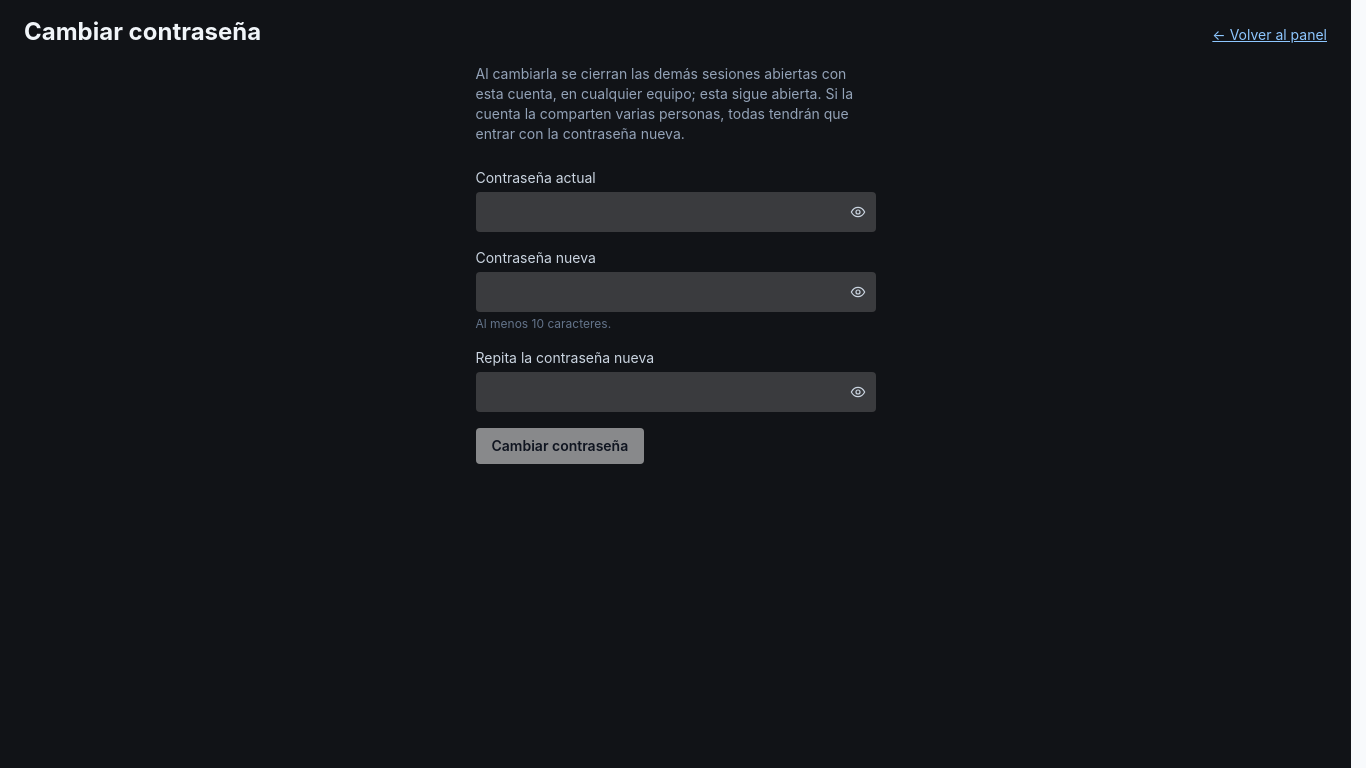
Test: cambiar la propia contraseña (US-61) › si la actual es incorrecta, muestra el motivo del backend
In the password field labelled "Contraseña actual": (676, 212) top-left (476, 192), bottom-right (876, 232), type "no-es-esta-clave"
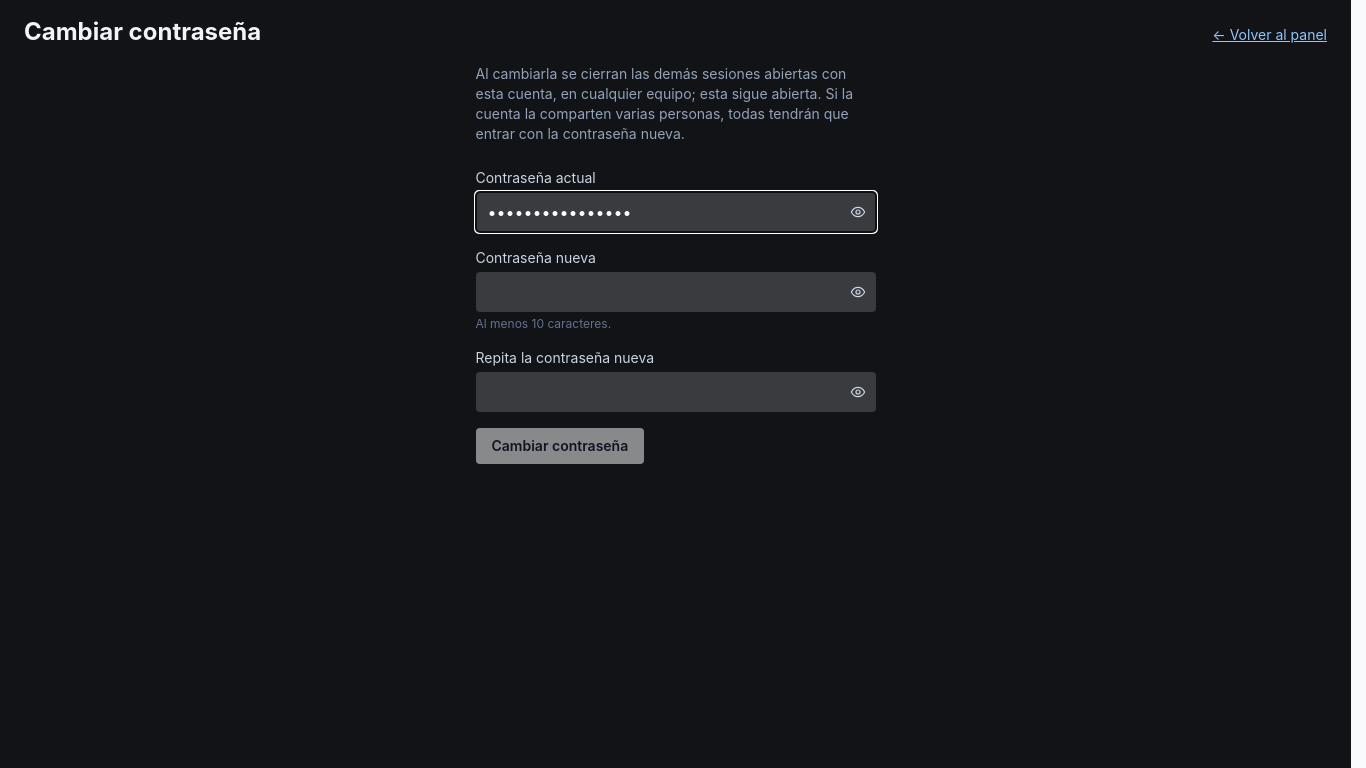
In the password field labelled "Contraseña nueva": (676, 292) top-left (476, 272), bottom-right (876, 312), type "otra-clave-larga"
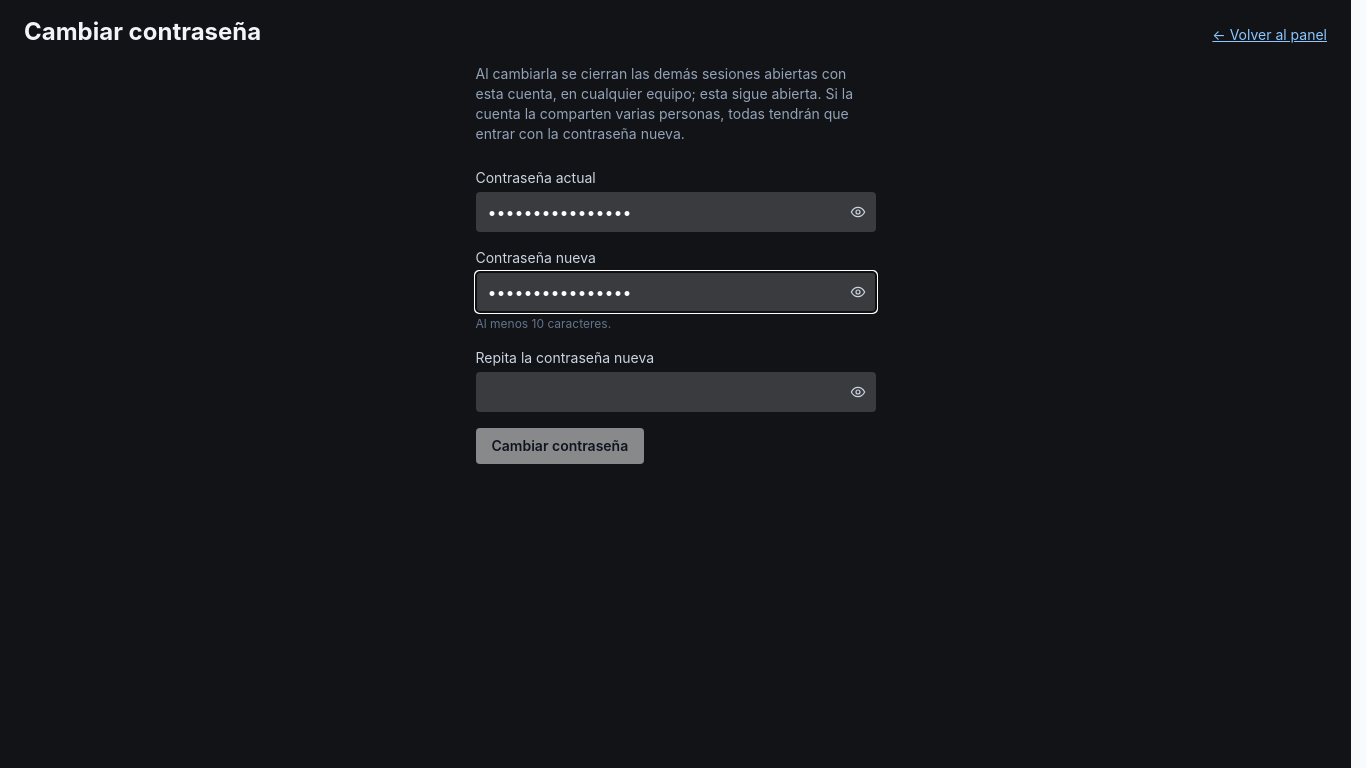
In the password field labelled "Repita la contraseña nueva": (676, 392) top-left (476, 372), bottom-right (876, 412), type "otra-clave-larga"
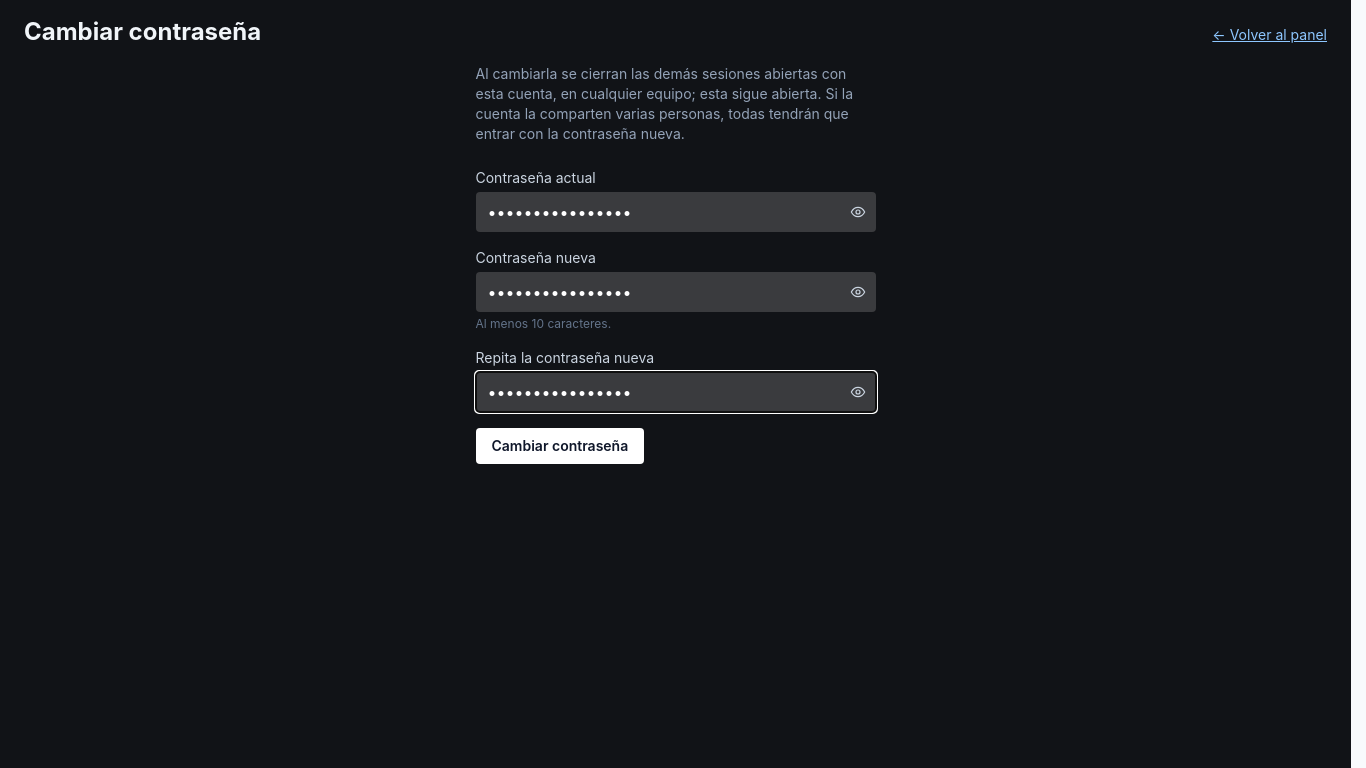
Click the button "Cambiar contraseña": (560, 446) top-left (476, 428), bottom-right (644, 464)
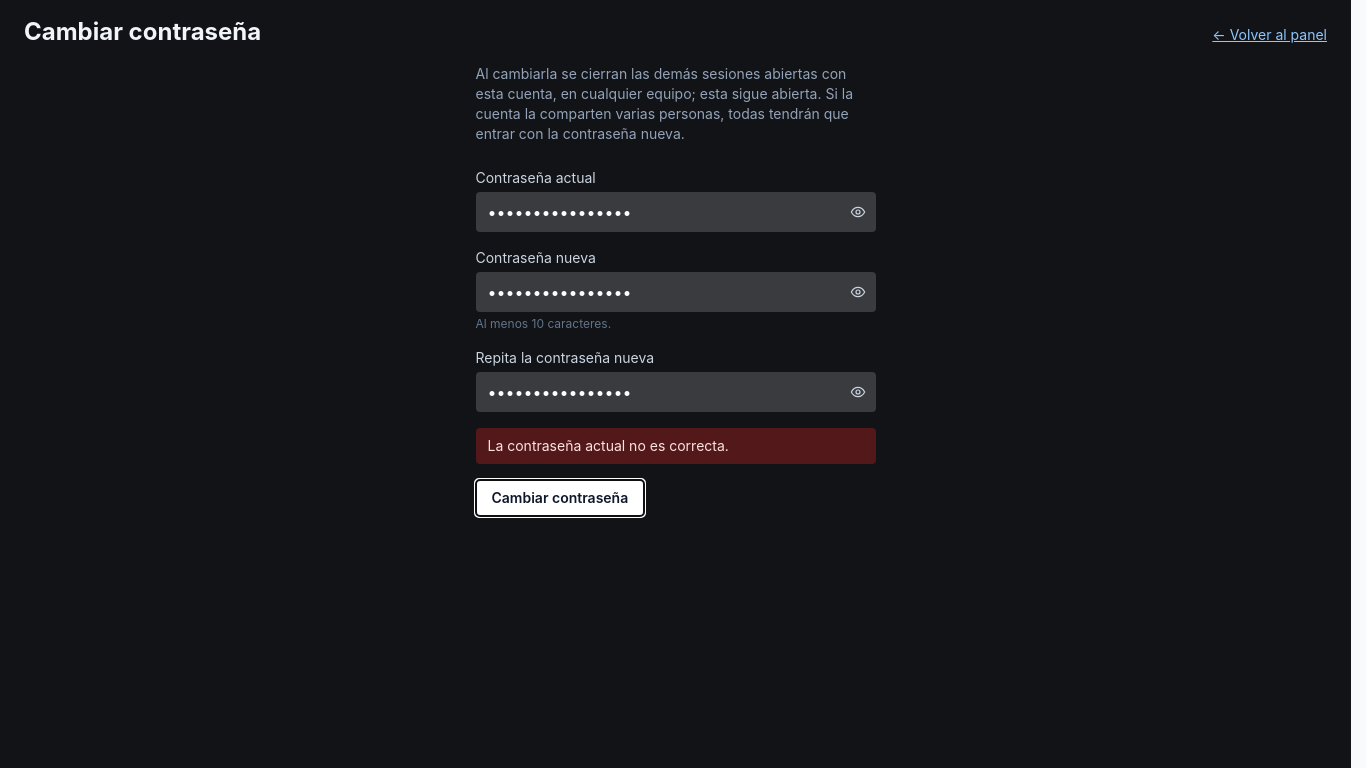
expect the message reads "La contraseña actual no es correcta.": met, box top-left (488, 437), bottom-right (729, 454)
